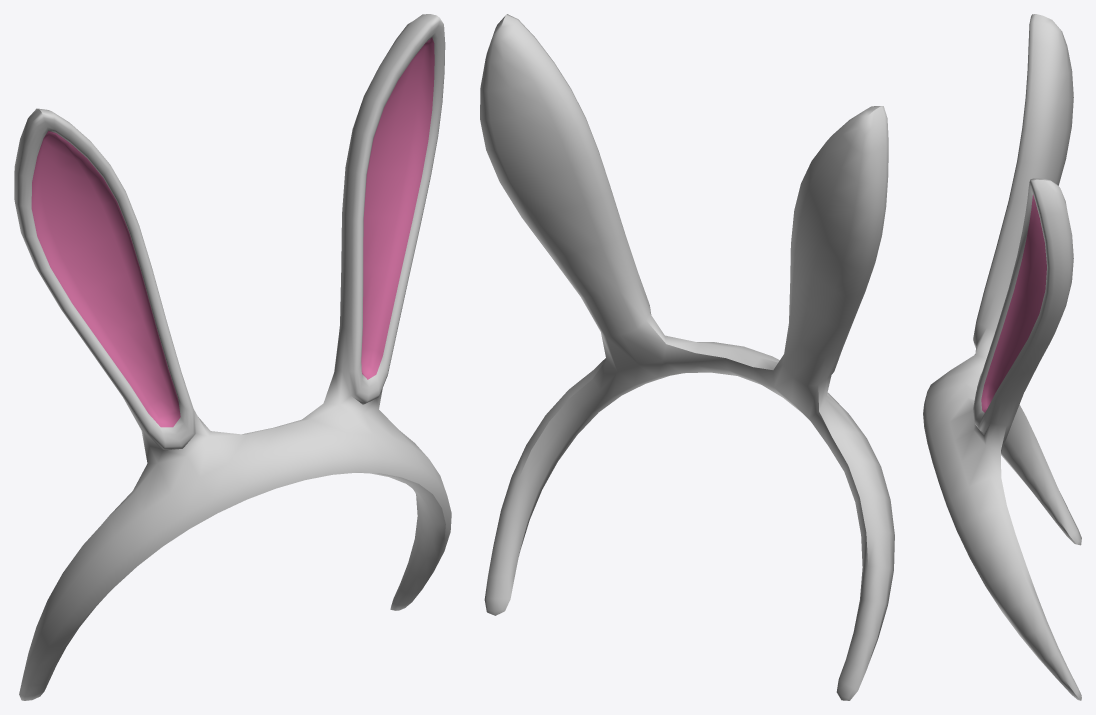
The picture shows the model from 3 angles, left to right: view 1: azimuth 30°, elevation 25°; view 2: azimuth 150°, elevation 25°; view 3: azimuth 270°, elevation 25°; orthographic projection. The views are drawn at different scales.
Visible parts, largest first — view 1: bunny_ear; view 2: bunny_ear; view 3: bunny_ear.
Boxes of the visible parts, x1=… form: bunny_ear: x1=14, y1=14, x2=451, y2=700; bunny_ear: x1=480, y1=14, x2=894, y2=700; bunny_ear: x1=923, y1=14, x2=1081, y2=700.
Size of the model in its own units: 2.11 by 2.89 by 0.7931.
